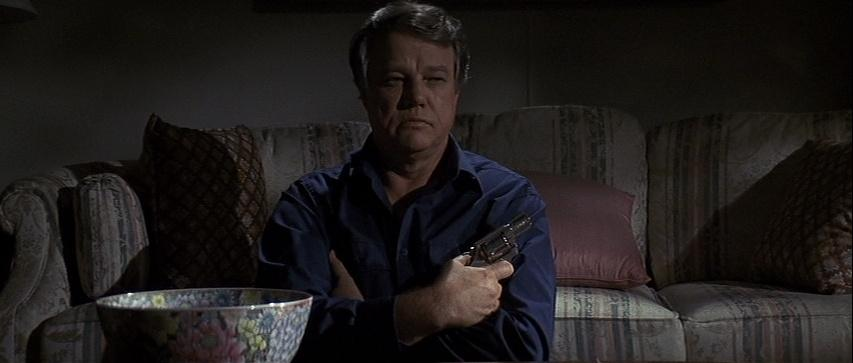gun: (439, 216, 535, 326)
